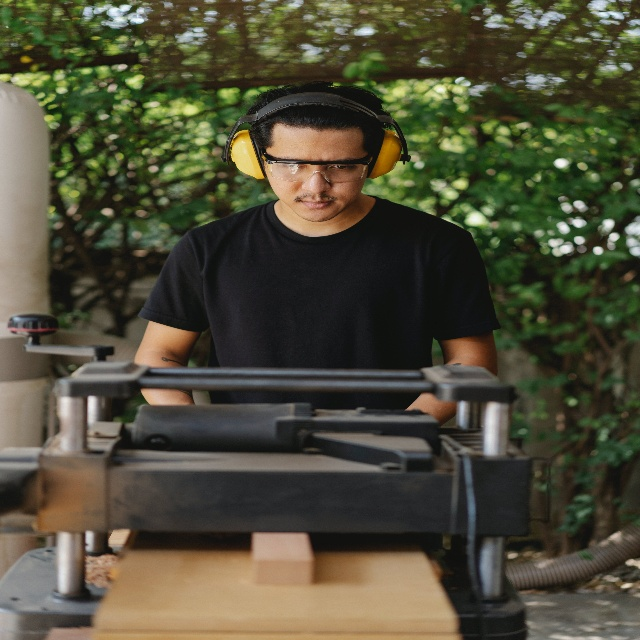Gafas: (260, 146, 372, 184)
